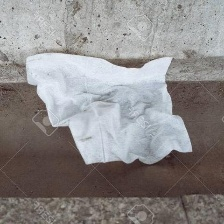tissue: (19, 45, 200, 171)
